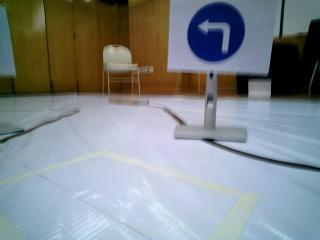left: (175, 6, 262, 72)
